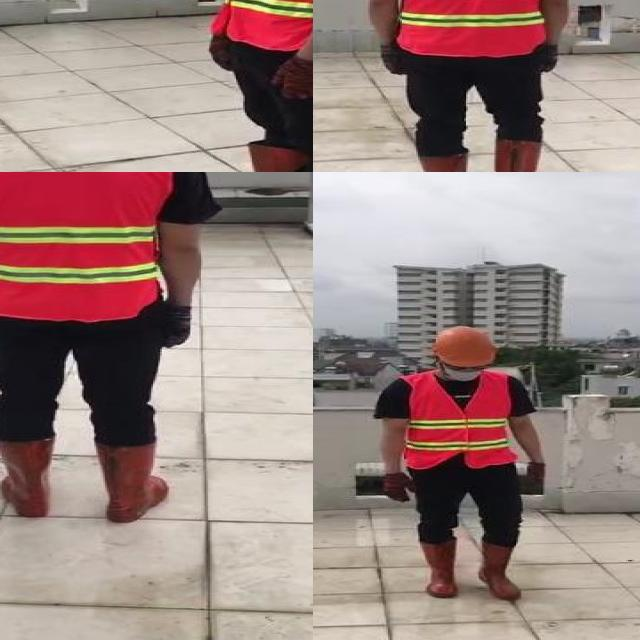boots: (94, 441, 171, 523), (0, 438, 55, 519), (200, 143, 301, 172), (481, 539, 528, 601), (417, 539, 462, 598), (491, 137, 546, 172), (412, 151, 469, 172)
face_mask: (443, 362, 488, 382)
hand_glove: (270, 57, 313, 97), (379, 473, 418, 502), (166, 303, 190, 347), (379, 45, 402, 77), (527, 460, 548, 485), (540, 46, 558, 73)
head_helmet: (431, 323, 496, 369)
person: (0, 172, 218, 537), (371, 324, 558, 604), (353, 0, 584, 172), (177, 0, 313, 172)
vest: (0, 172, 172, 321), (400, 373, 512, 467), (391, 0, 547, 56)
